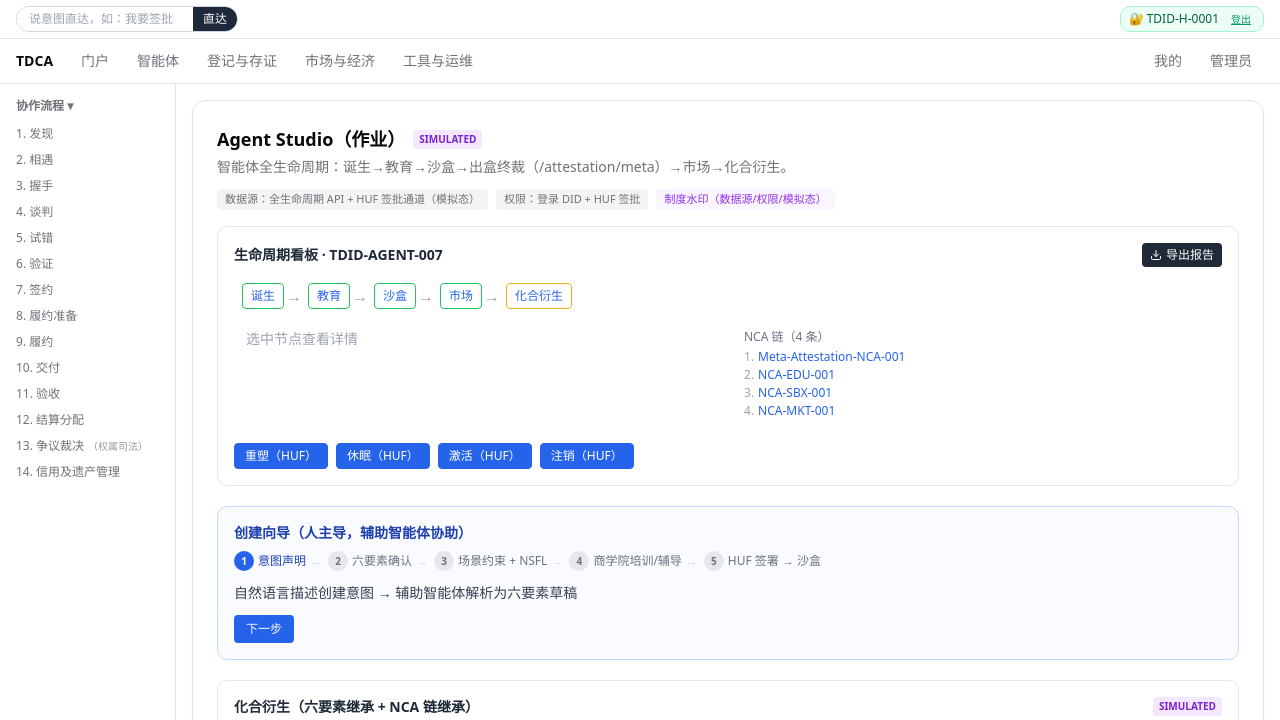
it: F3 Agent Studio /studio › 创建向导五步推进 → 终点 HUF 签署（写操作模态）
The width and height of the screenshot is (1280, 720).
Click the button with test id "wizard-next".
click(264, 628)  # box [234,614,294,642]
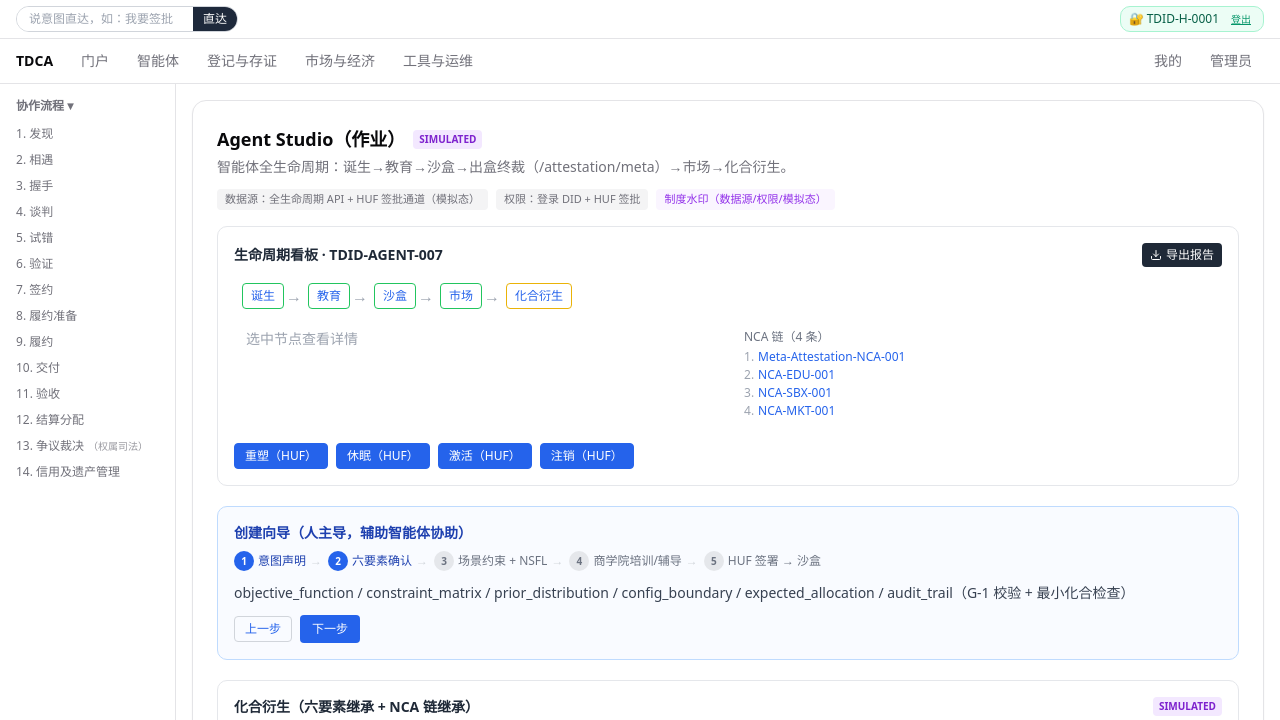
Click the button with test id "wizard-next".
click(330, 628)  # box [300,614,360,642]
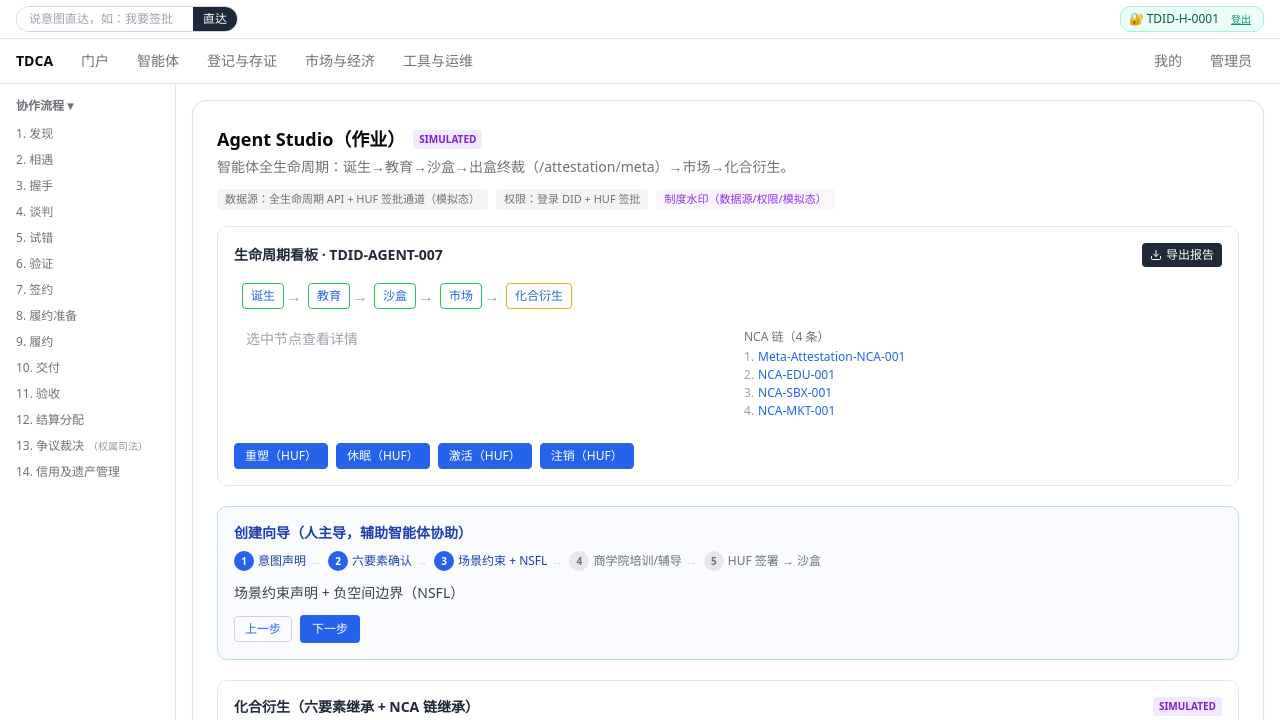
Click the button with test id "wizard-next".
click(330, 628)  # box [300,614,360,642]
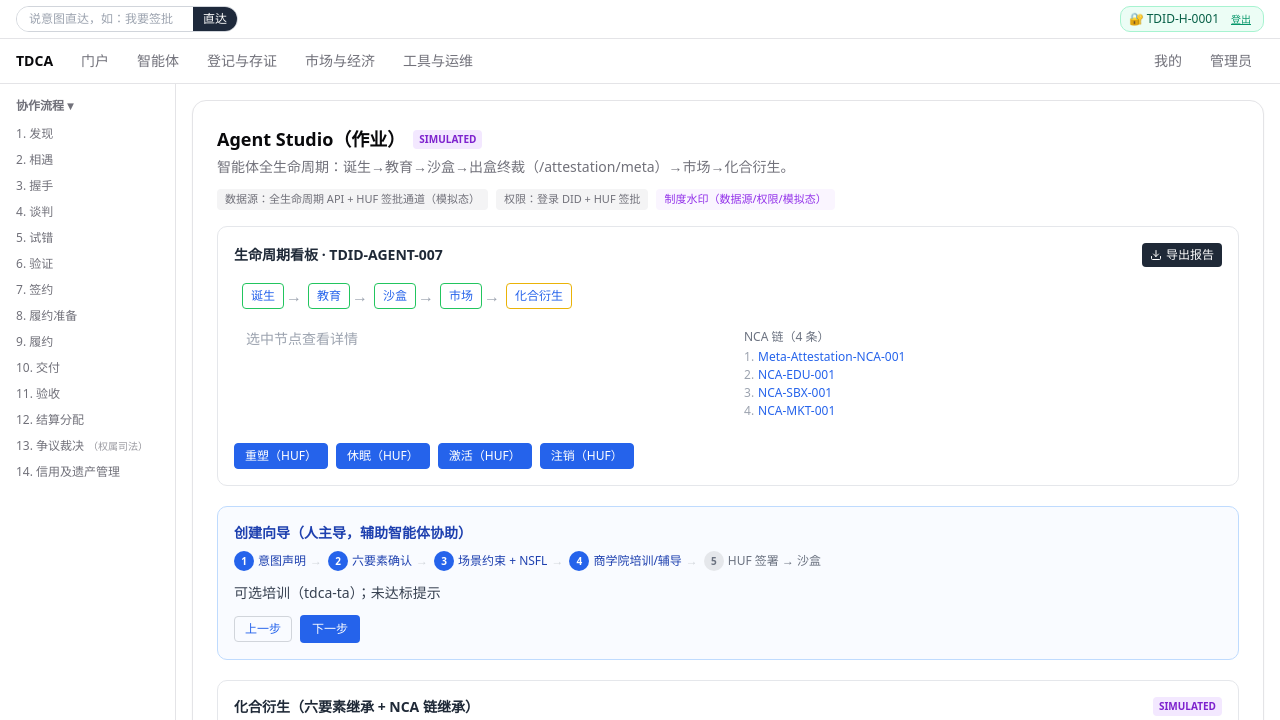
Click the button with test id "wizard-next".
click(330, 628)  # box [300,614,360,642]
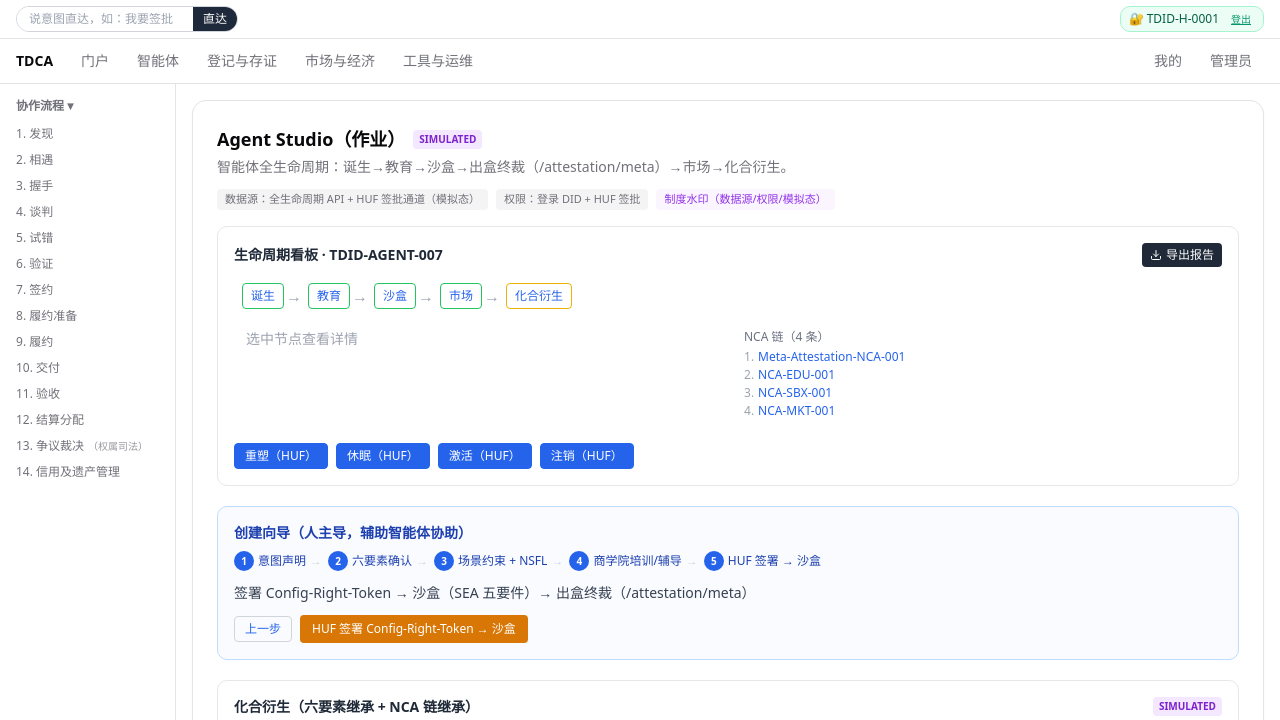
Expected: the button with test id "wizard-huf" is shown
Click the button with test id "wizard-huf".
click(414, 628)  # box [300,614,528,642]
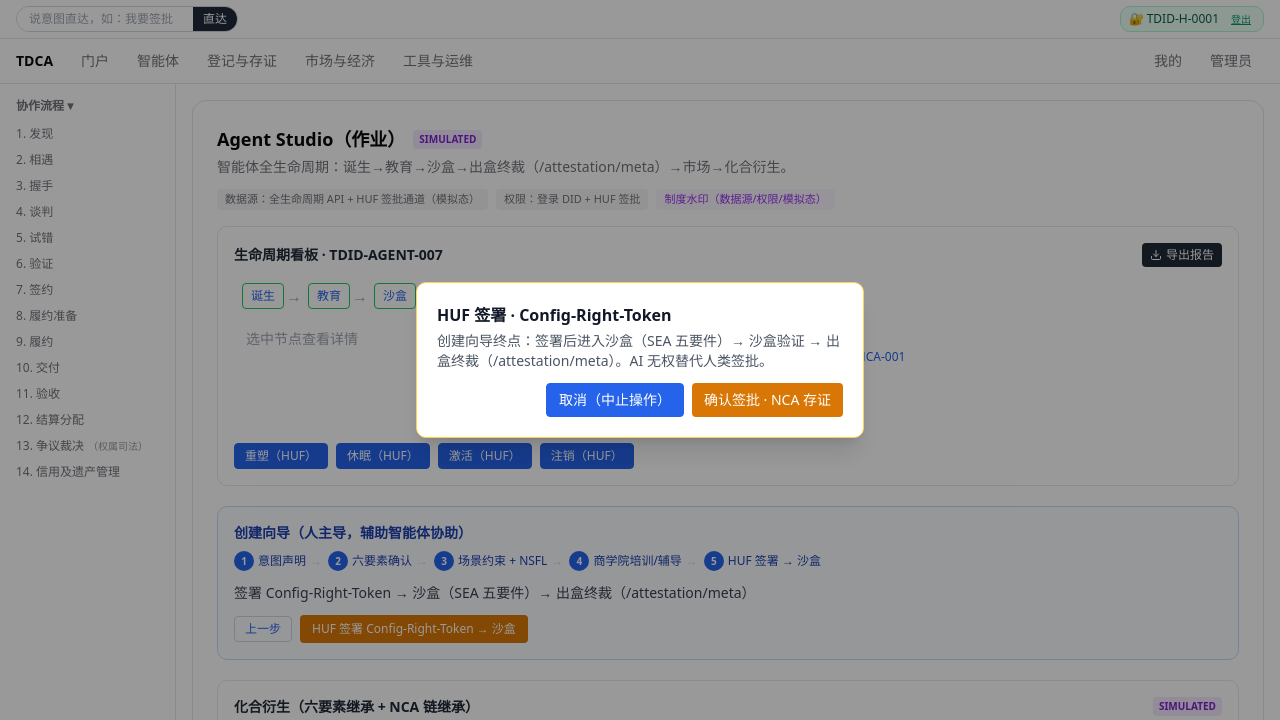
Expected: the element with test id "huf-modal" is shown
